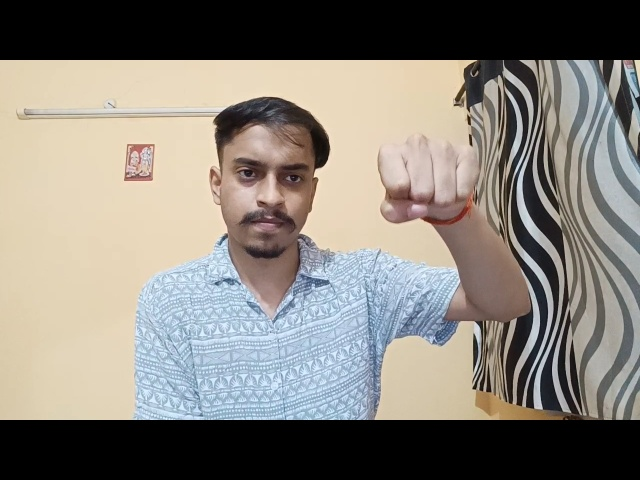Yes: (359, 124, 500, 238)
